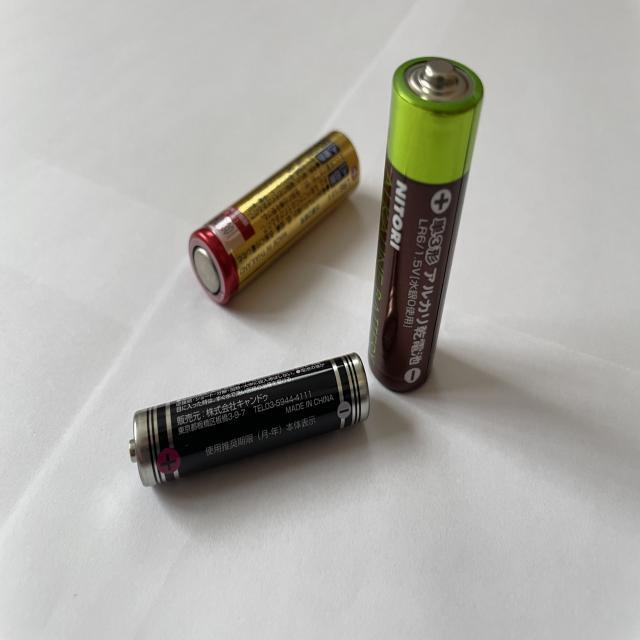hazardous waste: (366, 56, 486, 394), (128, 354, 371, 489), (186, 128, 362, 306)
